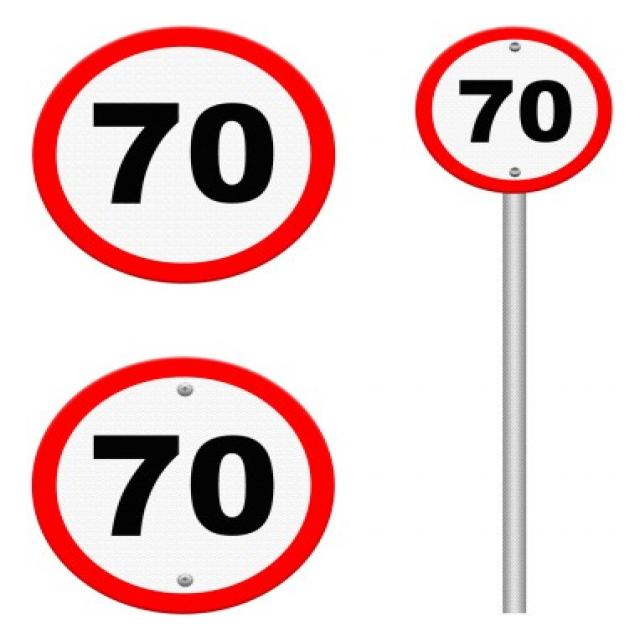speed_limit_70: (22, 350, 338, 621), (29, 23, 338, 292), (398, 20, 625, 202)
